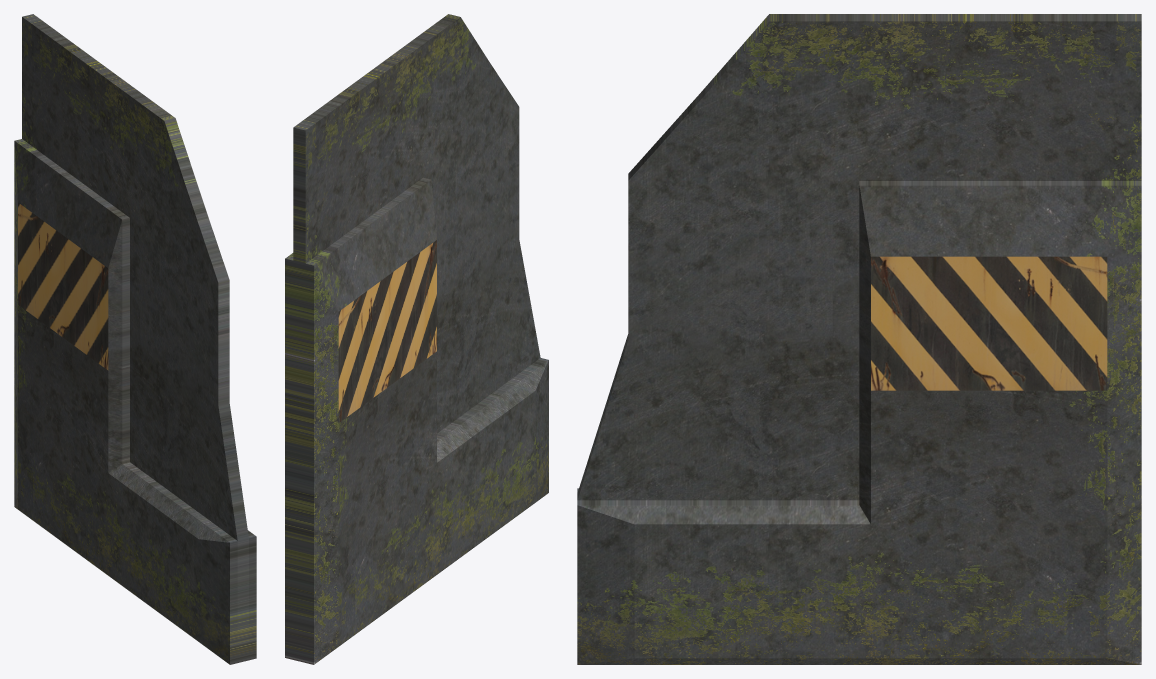
The model's file is Door.FBX.
3 renders of one model, left to right at view 1: azimuth 30°, elevation 25°; view 2: azimuth 150°, elevation 25°; view 3: azimuth 270°, elevation 25°, orthographic. The views are drawn at different scales.
Parts seen in each view (by area): view 1: Door; view 2: Door; view 3: Door.
Boxes of the visible parts, left/top/right/bottom form: Door: left=14, top=14, right=256, bottom=664; Door: left=285, top=14, right=548, bottom=664; Door: left=577, top=14, right=1141, bottom=664.
Bounding box in the file's own units: 24.47 × 250 × 200.
